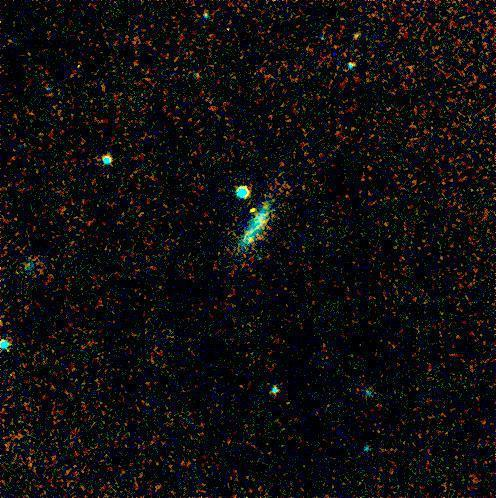star: (240, 193, 270, 223)
